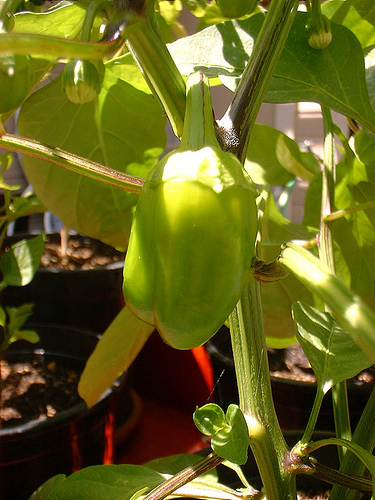capsicum: (115, 141, 257, 346)
